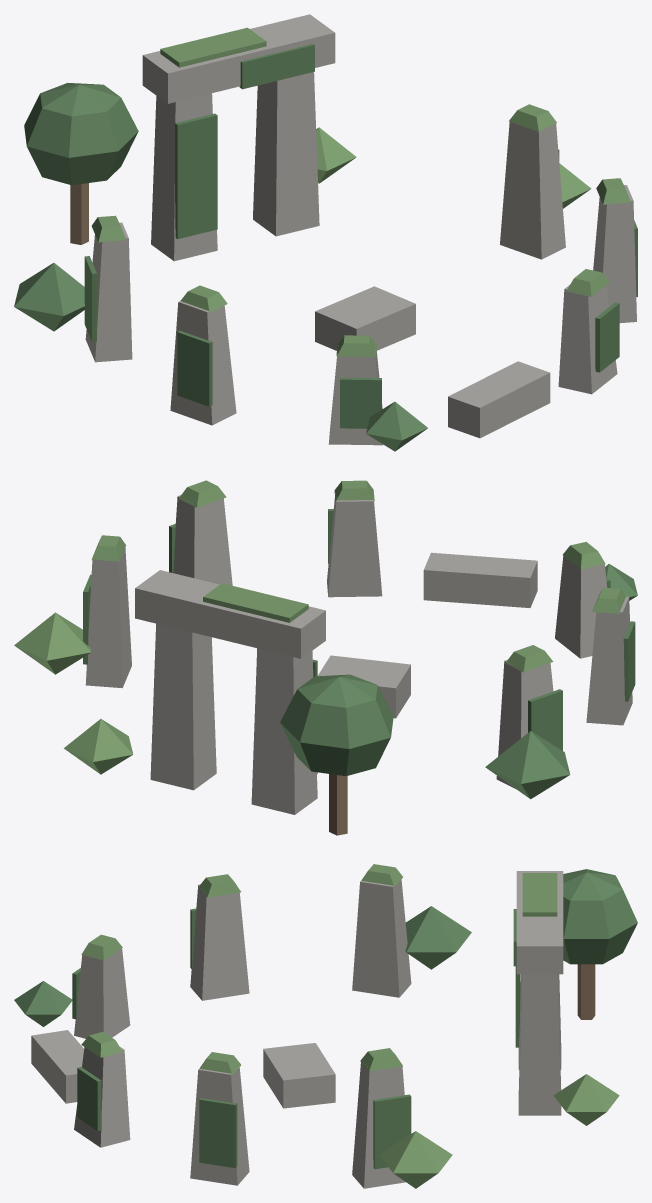
The model's file is ancient-ruins.glb.
3 renders of one model, top to bottom at view 1: azimuth 30°, elevation 25°; view 2: azimuth 150°, elevation 25°; view 3: azimuth 270°, elevation 25°, orthographic. The views are drawn at different scales.
Parts seen in each view (by area): view 1: LOD0; view 2: LOD0; view 3: LOD0.
Boxes of the visible parts, bbox=[...] form: LOD0: bbox=[14, 14, 637, 451]; LOD0: bbox=[14, 480, 637, 835]; LOD0: bbox=[14, 864, 637, 1188].
Size of what is drawn, in the model's own units: 1.53 by 0.533 by 1.61.
